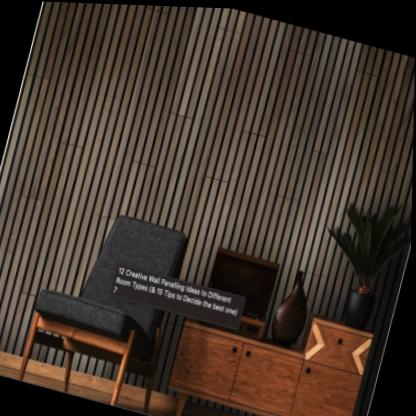Chair: (11, 187, 200, 416)
Sideboard: (167, 315, 375, 416)
Wall Panel: (0, 0, 416, 305)
